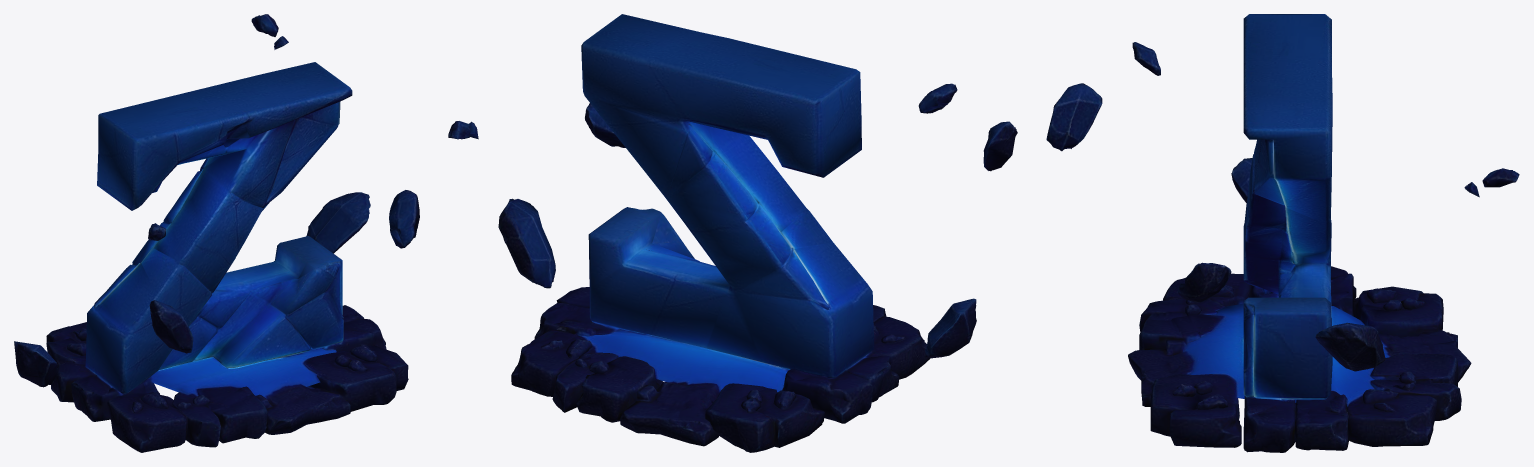
The model's file is zevren-z.glb.
3 views of the same model, side by side, from view 1: azimuth 30°, elevation 25°; view 2: azimuth 150°, elevation 25°; view 3: azimuth 270°, elevation 25° (orthographic). The views are drawn at different scales.
Visible parts, largest first — view 1: tripo_node_8bcc2273-2897-4663-b5ae-13a91354e0c0; view 2: tripo_node_8bcc2273-2897-4663-b5ae-13a91354e0c0; view 3: tripo_node_8bcc2273-2897-4663-b5ae-13a91354e0c0.
Boxes of the visible parts, x1,y1,x2,y2 form: tripo_node_8bcc2273-2897-4663-b5ae-13a91354e0c0: (14, 14, 419, 452); tripo_node_8bcc2273-2897-4663-b5ae-13a91354e0c0: (448, 14, 1017, 452); tripo_node_8bcc2273-2897-4663-b5ae-13a91354e0c0: (1046, 14, 1519, 452).
Bounding box in the file's own units: 0.998 × 0.7051 × 0.9746.
Materials: 1 (1 with a texture image).
